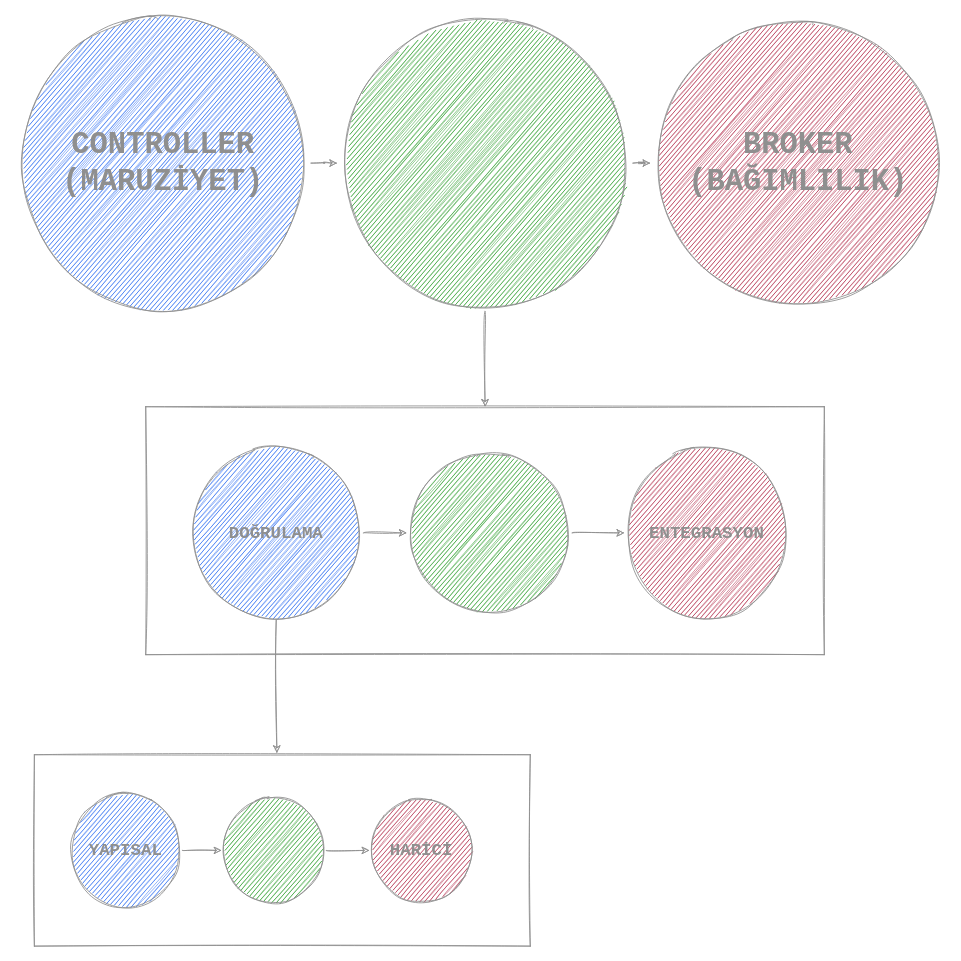
Some shapes in this 961 by 961 pixel diagram are drawn without their labels. Each missing label, with the centre of its shape:
İŞLEME: the point at 489,532
MANTIKSAL: the point at 273,850
SERVICE (AMAÇ): the point at 484,162
